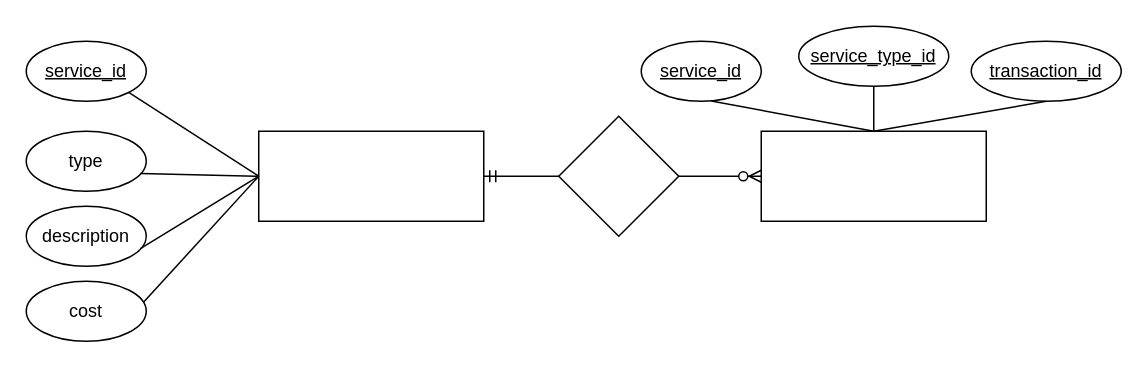
This 1148x368 diagram has some shape labels left out. The shapes that lost their labels are listed below. From the top down, each one's box as (x1, y1, x2, y2) in pixels, then its label:
(257, 130, 484, 221): SERVICE_TYPES
(557, 115, 679, 236): has
(760, 130, 986, 221): SERVICES
